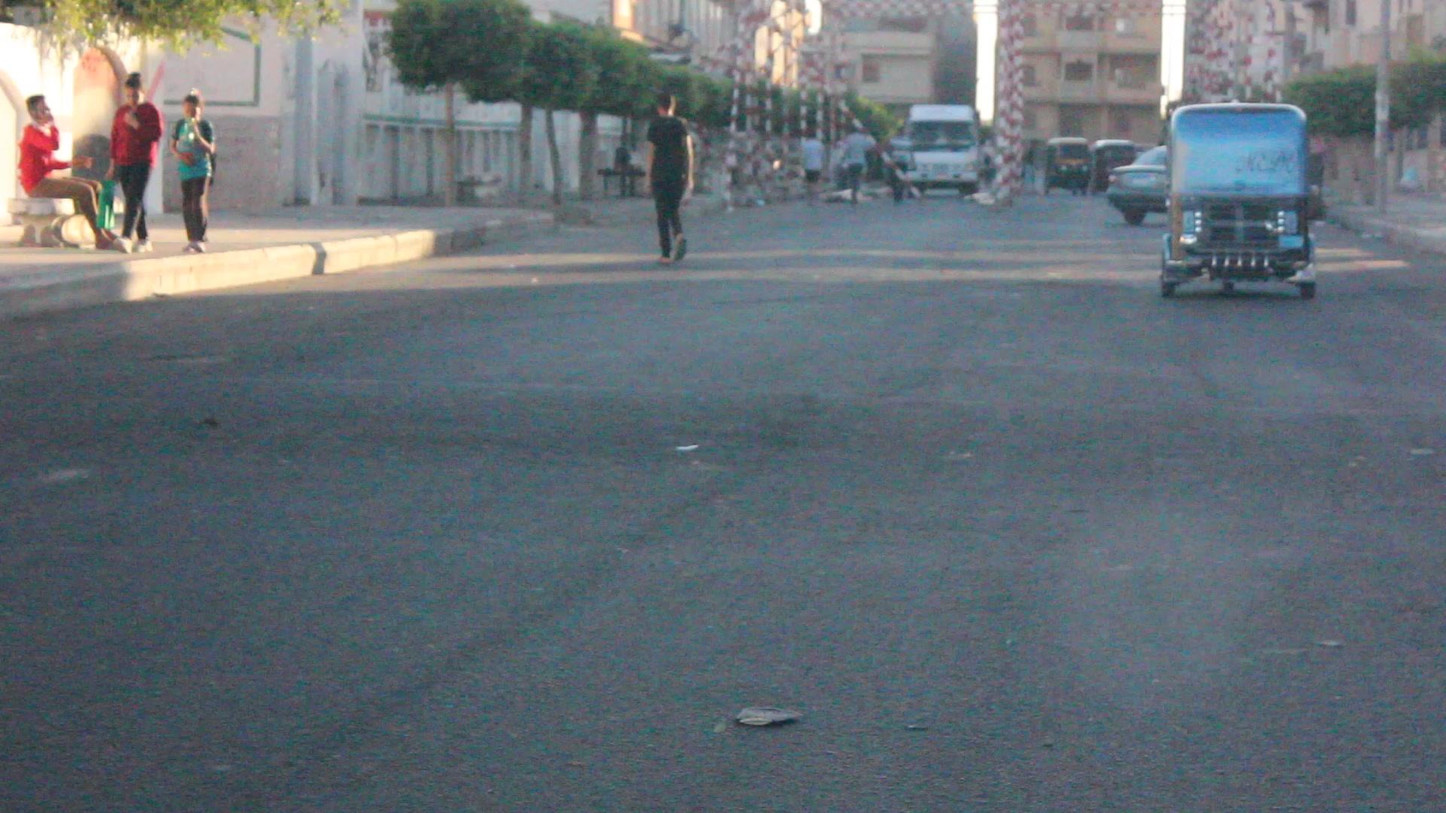Bump: (2, 333, 1446, 544)
